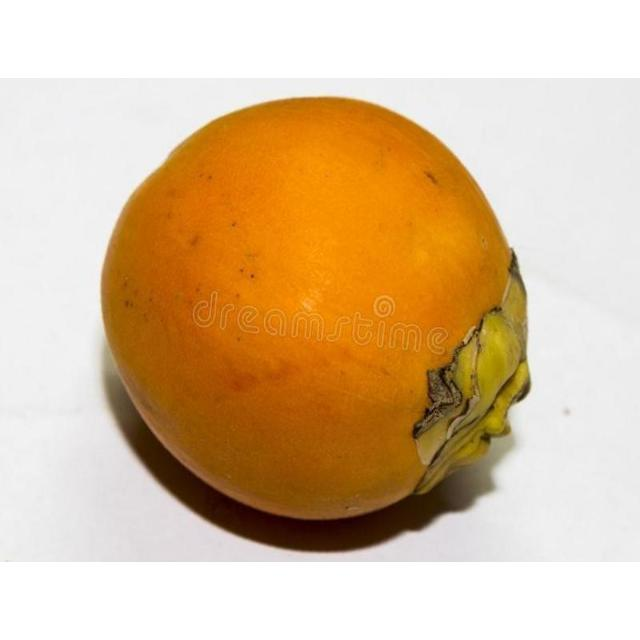good: (99, 97, 532, 524)
